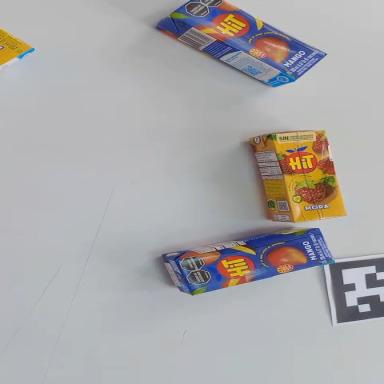HIT-MANGO: (155, 0, 327, 104), (161, 218, 334, 300)
HIT-MORA: (249, 120, 346, 233), (0, 21, 34, 73)
cara_F: (170, 0, 327, 88), (178, 226, 336, 297), (270, 120, 348, 229), (0, 19, 32, 66)
